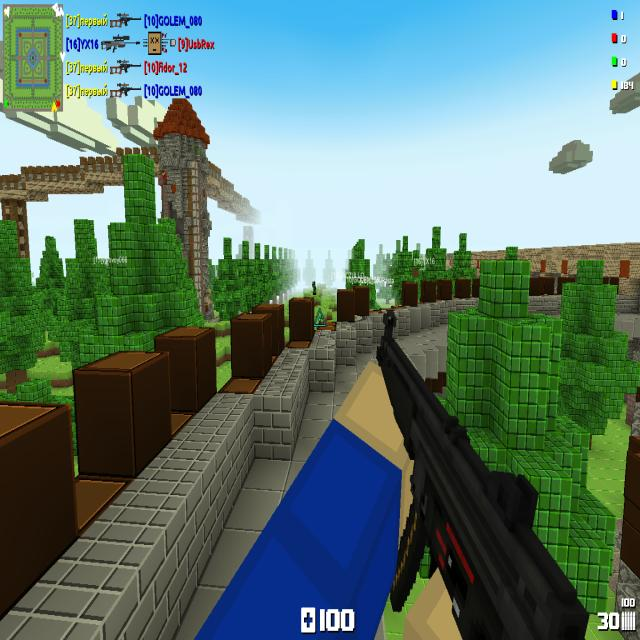enemy: (312, 281, 316, 295)
